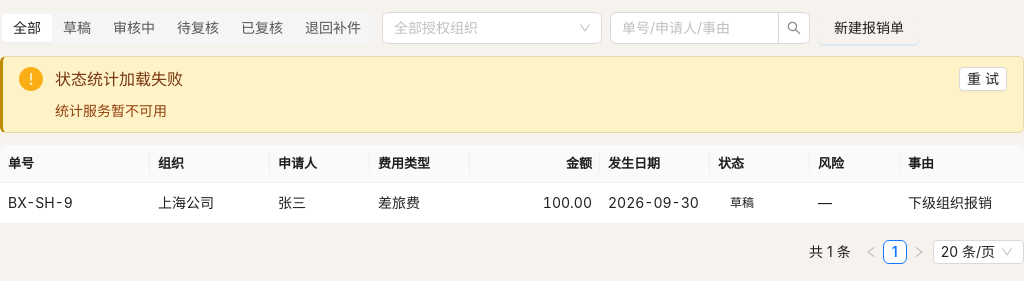
Test: 费用页面日常操作 AC-F22/X04 › 统计失败保留列表并允许重试,不显示失效计数
Expected: the text "状态统计加载失败" is shown, [55,69,183,89]
Expected: the text "下级组织报销" is shown, [900,183,1023,224]
What coordinates should you click on to do the following:
click the button "重 试"
I would click on:
 (983, 79)
Its box is [959,67,1007,91].
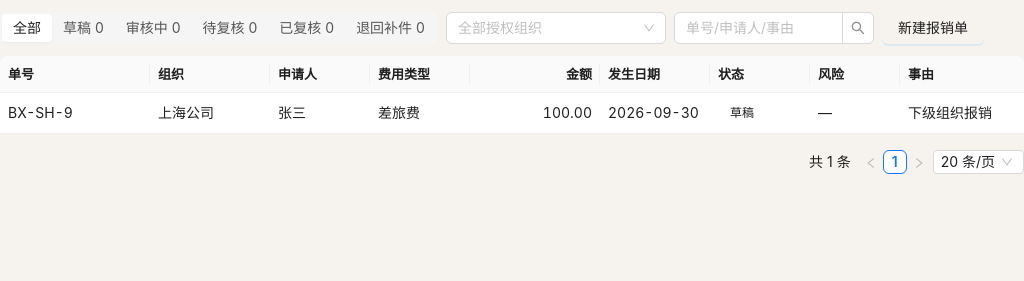
Expected: the text "状态统计加载失败" is gone
